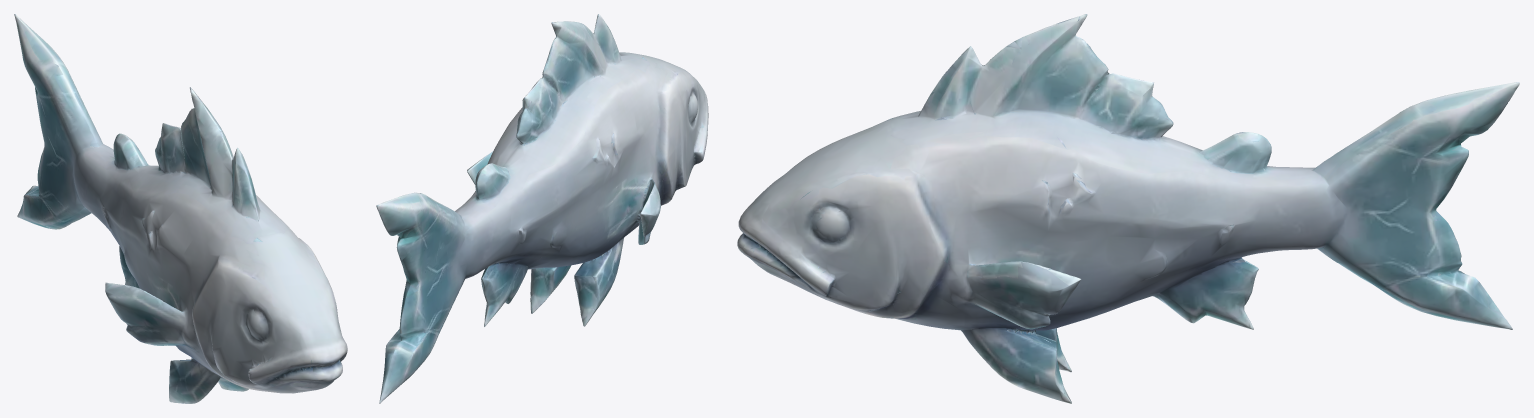
The model's file is fish_frostfin.glb.
The picture shows the model from 3 angles, left to right: view 1: azimuth 30°, elevation 25°; view 2: azimuth 150°, elevation 25°; view 3: azimuth 270°, elevation 25°; orthographic projection. The views are drawn at different scales.
Visible parts, largest first — view 1: Mesh_0; view 2: Mesh_0; view 3: Mesh_0.
Boxes of the visible parts, box(x1,y1,x2,y2) form: Mesh_0: box(14, 14, 347, 403); Mesh_0: box(376, 14, 708, 403); Mesh_0: box(737, 14, 1519, 403).
Size of the model in its own units: 0.6498 by 1.01 by 1.91.
Materials: 1 (1 with a texture image).
